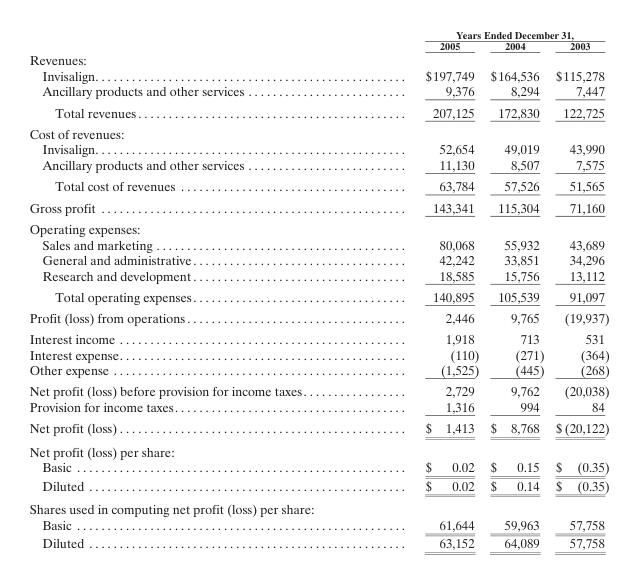table: (28, 28, 608, 550)
table column: (28, 28, 365, 550), (365, 28, 484, 550), (484, 28, 549, 550), (549, 28, 608, 550)
table column header: (28, 28, 608, 51)
table projected row header: (28, 439, 608, 459), (28, 122, 608, 141), (28, 217, 608, 236), (28, 497, 608, 516), (28, 51, 608, 67)
table row: (28, 285, 608, 307), (28, 417, 608, 439), (28, 101, 608, 122), (28, 175, 608, 196), (28, 196, 608, 217), (28, 307, 608, 328), (28, 476, 608, 497), (28, 439, 608, 459), (28, 82, 608, 101), (28, 122, 608, 141), (28, 156, 608, 175), (28, 217, 608, 236), (28, 361, 608, 380), (28, 398, 608, 417), (28, 497, 608, 516), (28, 267, 608, 285), (28, 328, 608, 346), (28, 380, 608, 398), (28, 459, 608, 476), (28, 516, 608, 533), (28, 533, 608, 550), (28, 51, 608, 67), (28, 251, 608, 267), (28, 67, 608, 82), (28, 141, 608, 156), (28, 236, 608, 251), (28, 346, 608, 361), (28, 28, 608, 40), (28, 40, 608, 51)
table spanning cell: (365, 28, 608, 40)
